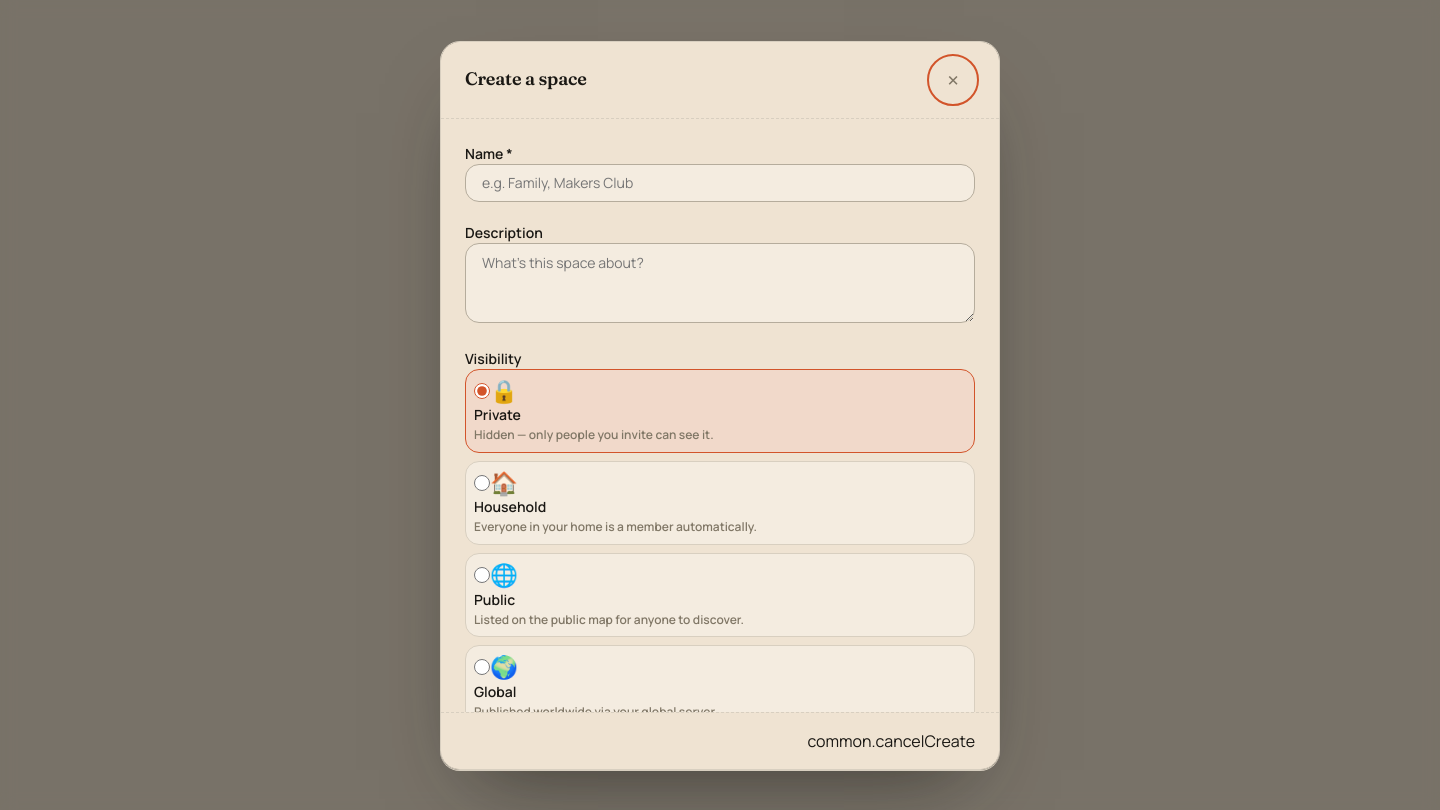
Scenario: SpaceCreateDialog — min-age + category › shows min-age + category for global
Step 1. Type "World" into the field with placeholder "e.g. Family, Makers Club" → (720, 182), box [465,164,975,202]
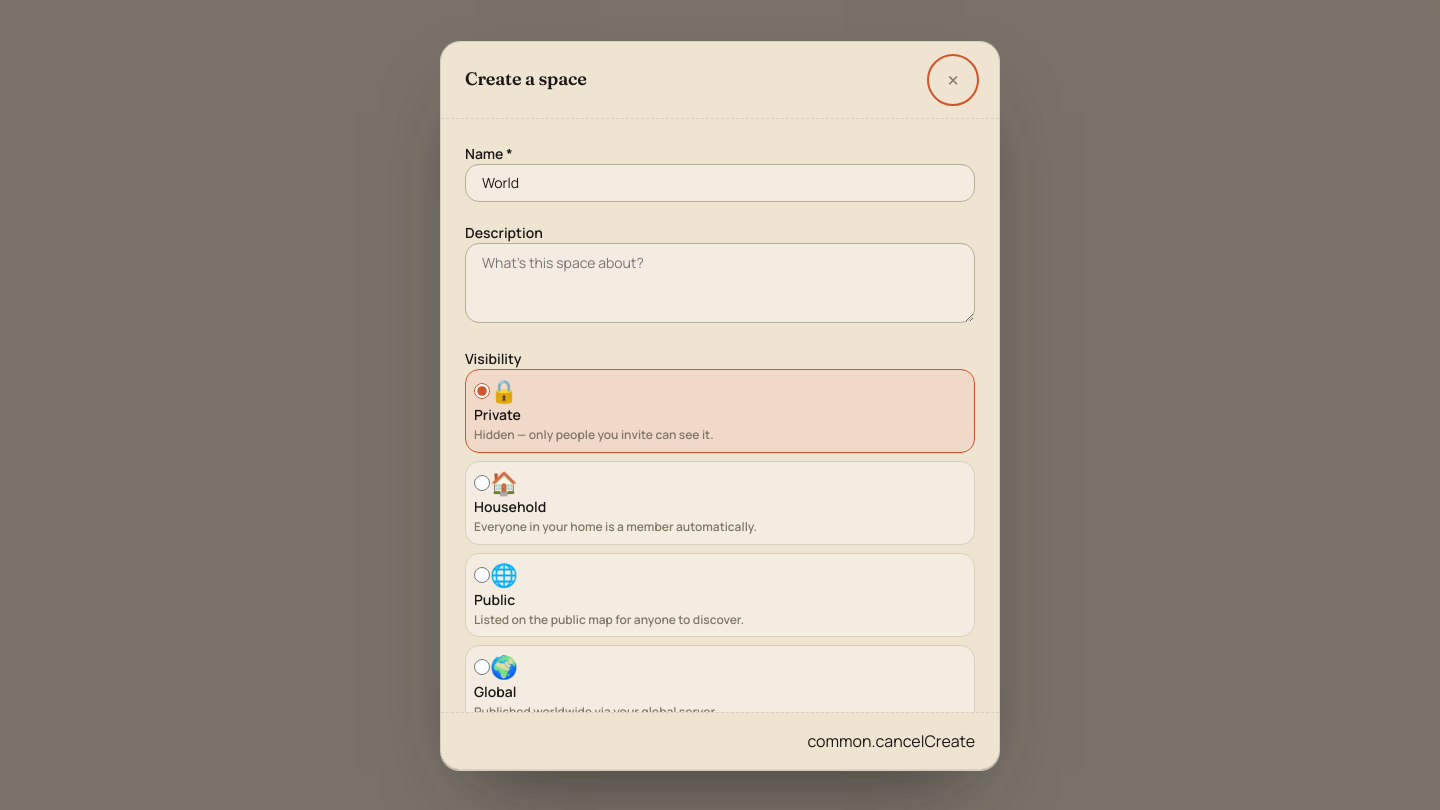
Step 2. Click the radio button labelled "🌍 Global Published worldwide via your global server." → (482, 667), box [474,659,490,675]
(page scrolled)
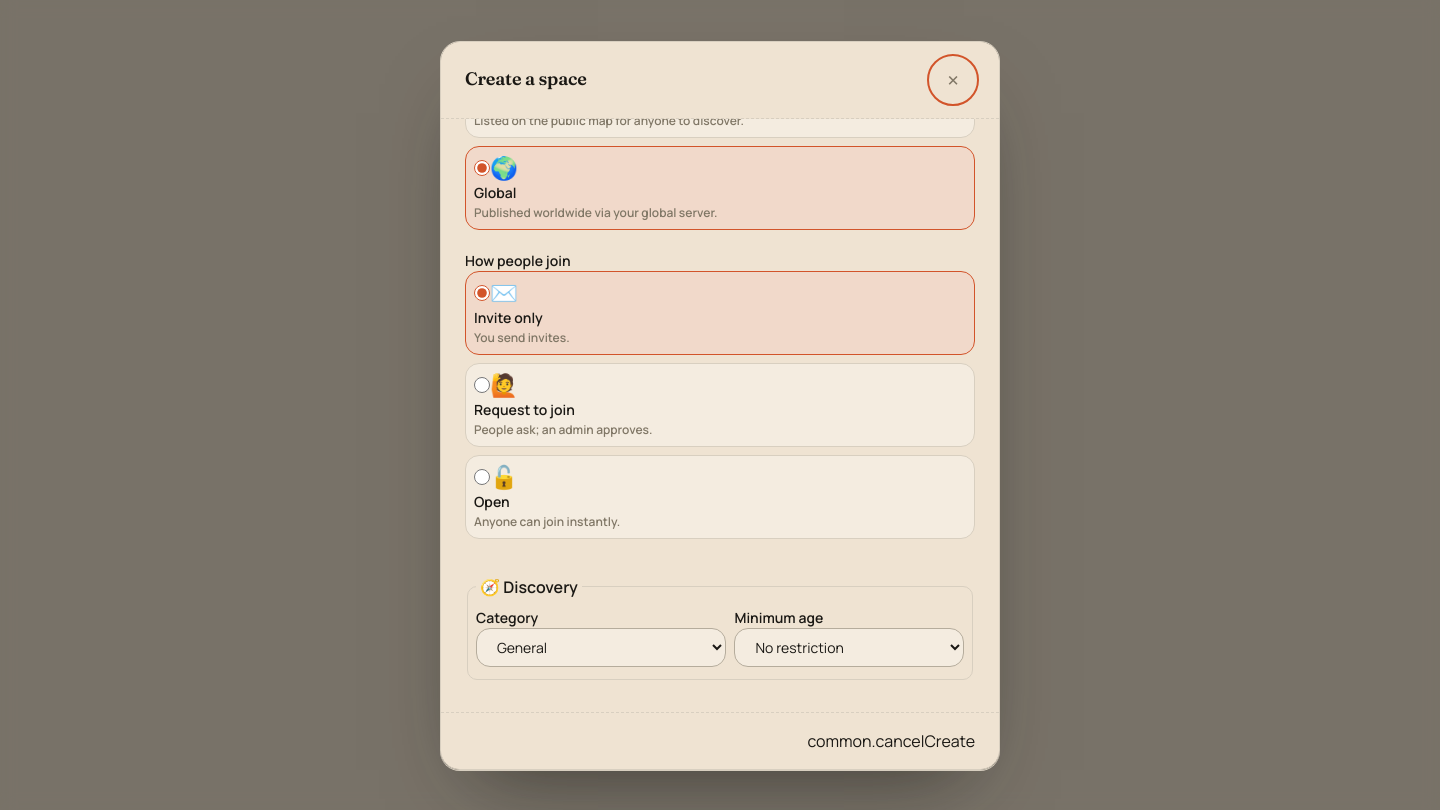
Expected: the dropdown named "space-create-min-age" is shown, [734,628,964,667]
Expected: the dropdown named "space-create-category" is shown, [476,628,726,667]
